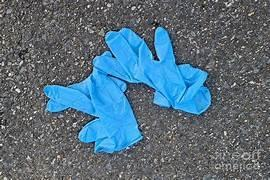Glove: (94, 27, 210, 113), (44, 68, 141, 152)
